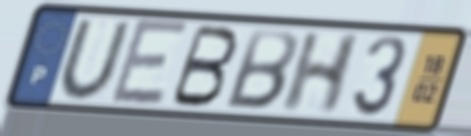3: (349, 33, 408, 120)
B: (221, 27, 300, 113), (165, 22, 241, 110)
E: (106, 16, 192, 108)
H: (277, 31, 366, 117)
U: (57, 18, 135, 102)
